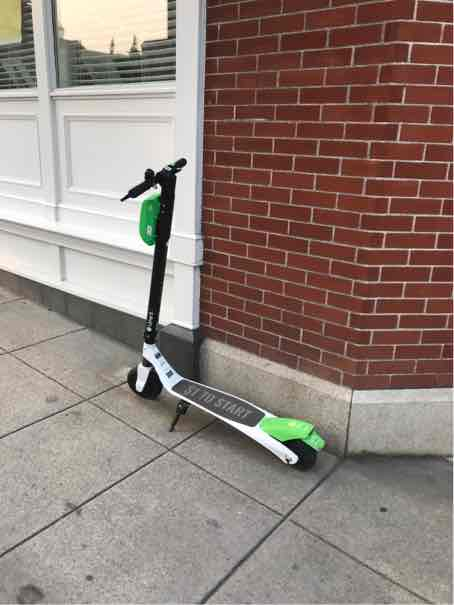scooter: (114, 144, 333, 472)
